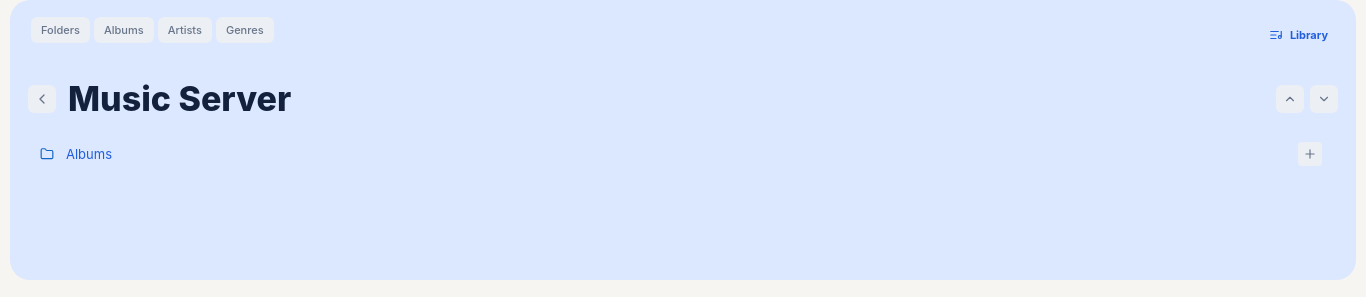
Test: NetList › renders an OSD command failure locally without alerting or leaking to global command state
This screenshot has width=1366, height=297.
Step 1. Click the button with aria-label "Open Albums" → (89, 154), box top-left (28, 135), bottom-right (1334, 173)
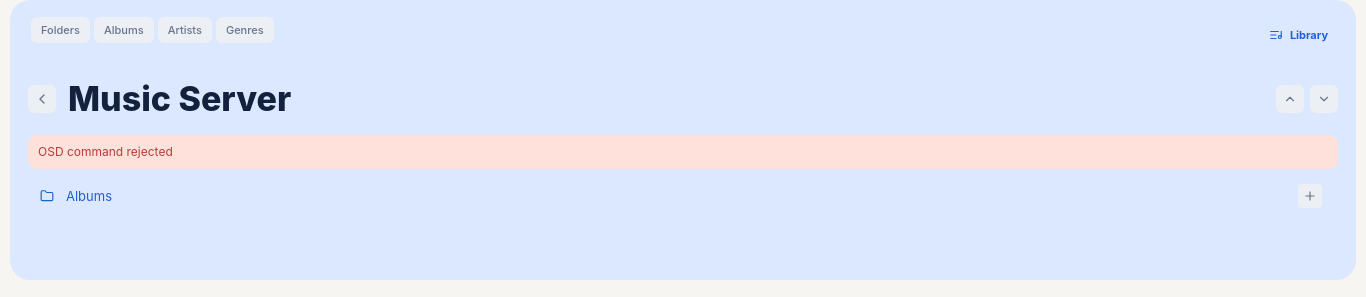
expect the message reads "OSD command rejected": met, box top-left (38, 144), bottom-right (173, 159)
